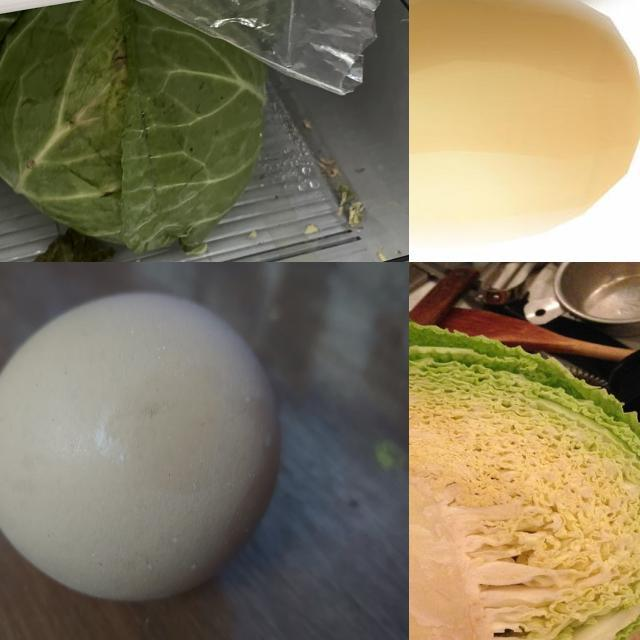cabbage: (1, 1, 275, 263), (410, 349, 640, 640)
egg: (1, 284, 289, 612)
potato: (410, 1, 640, 249)
